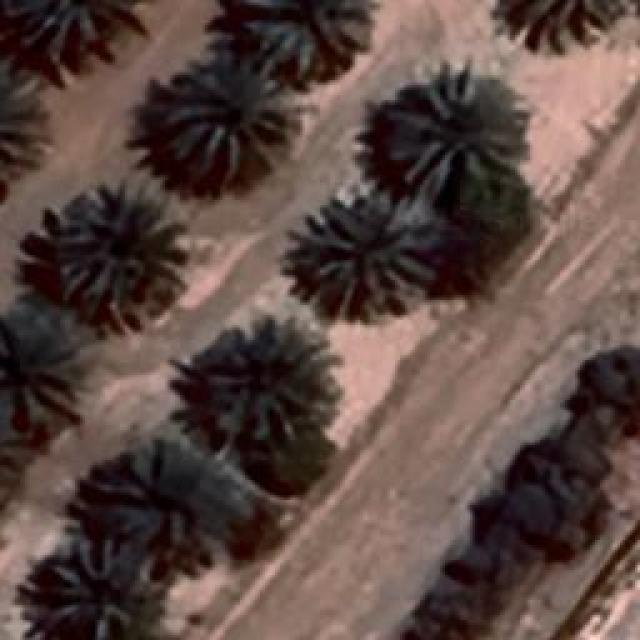PalmTree: (195, 310, 340, 448), (295, 190, 440, 320), (154, 50, 298, 180), (380, 65, 522, 190), (50, 180, 188, 308), (95, 434, 248, 548), (0, 304, 85, 428), (40, 540, 150, 635), (230, 0, 358, 80), (500, 0, 626, 58), (4, 0, 138, 48), (0, 68, 50, 190), (0, 417, 32, 516)
